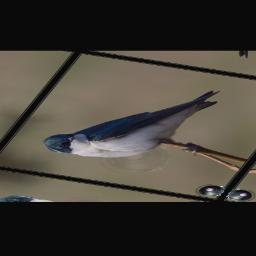Swallow: (36, 72, 227, 170)
